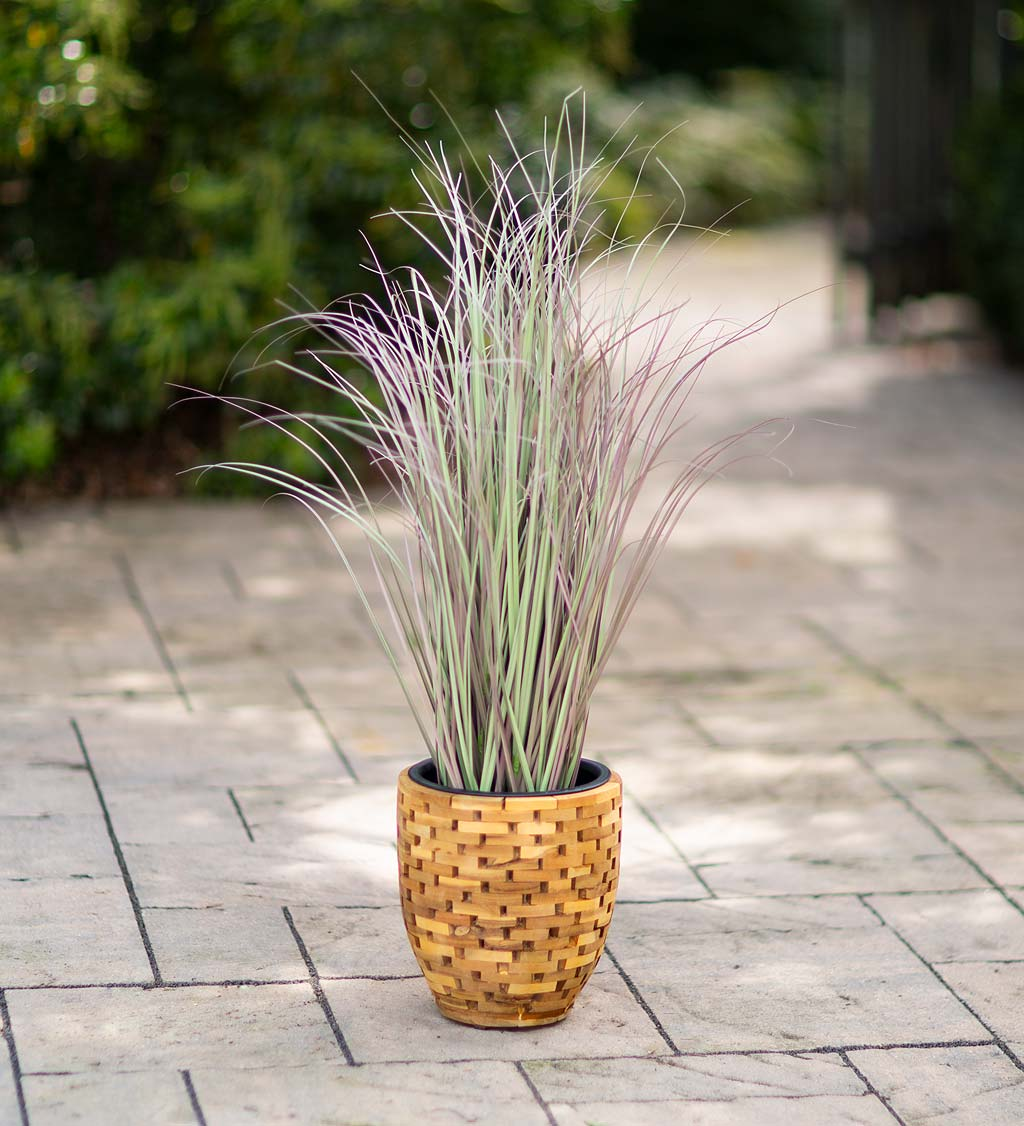tanaman: (287, 88, 669, 1028)
